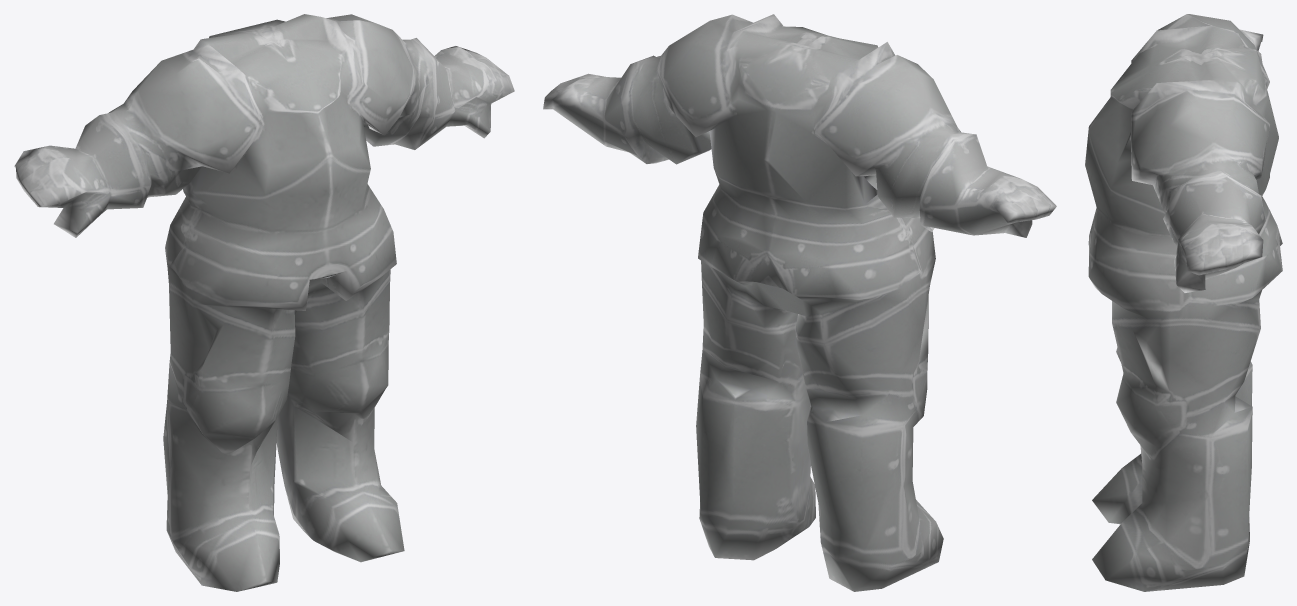
File: plateArmor.glb
3 views of the same model, side by side, from view 1: azimuth 30°, elevation 25°; view 2: azimuth 150°, elevation 25°; view 3: azimuth 270°, elevation 25° (orthographic). The views are drawn at different scales.
Parts seen in each view (by area): view 1: PlateArmor.001; view 2: PlateArmor.001; view 3: PlateArmor.001.
Part boxes in pixels (bbox=[...]): PlateArmor.001: bbox=[14, 14, 514, 591]; PlateArmor.001: bbox=[543, 14, 1056, 591]; PlateArmor.001: bbox=[1085, 14, 1282, 591].
Bounding box in the file's own units: 20.27 × 20.49 × 7.44.
1 material, 1 textured.
